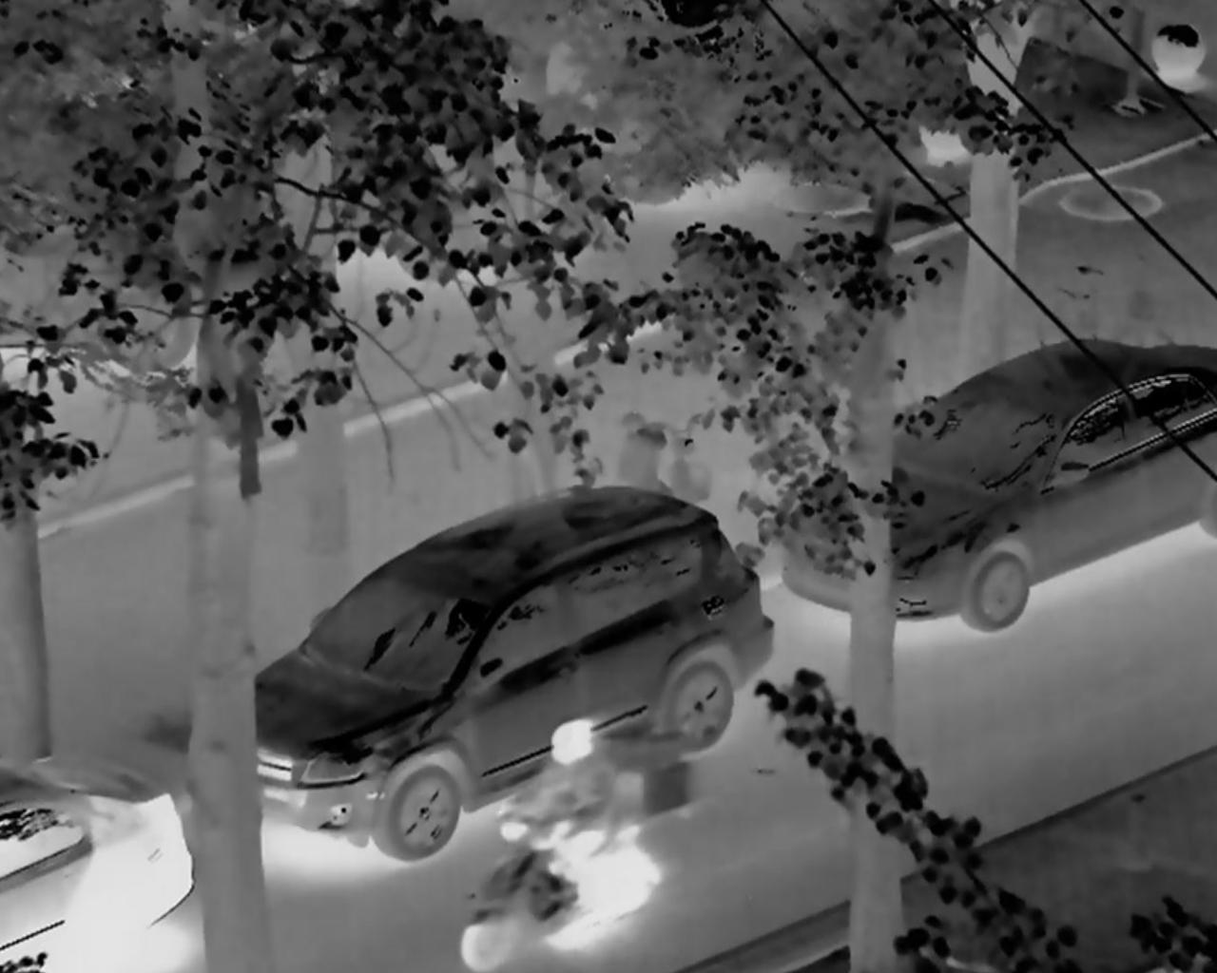person: (464, 732, 676, 959)
